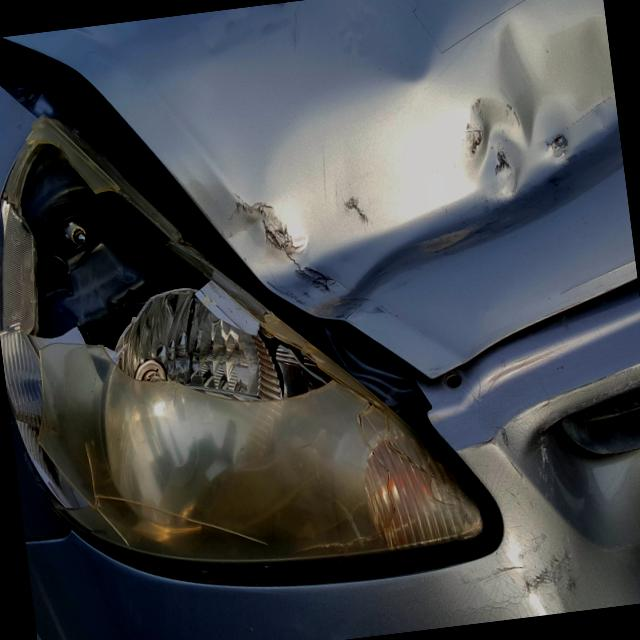Cabossage: (215, 13, 636, 317)
Phare abime: (0, 55, 371, 479), (0, 307, 128, 571)
Rayure: (468, 500, 606, 623)
